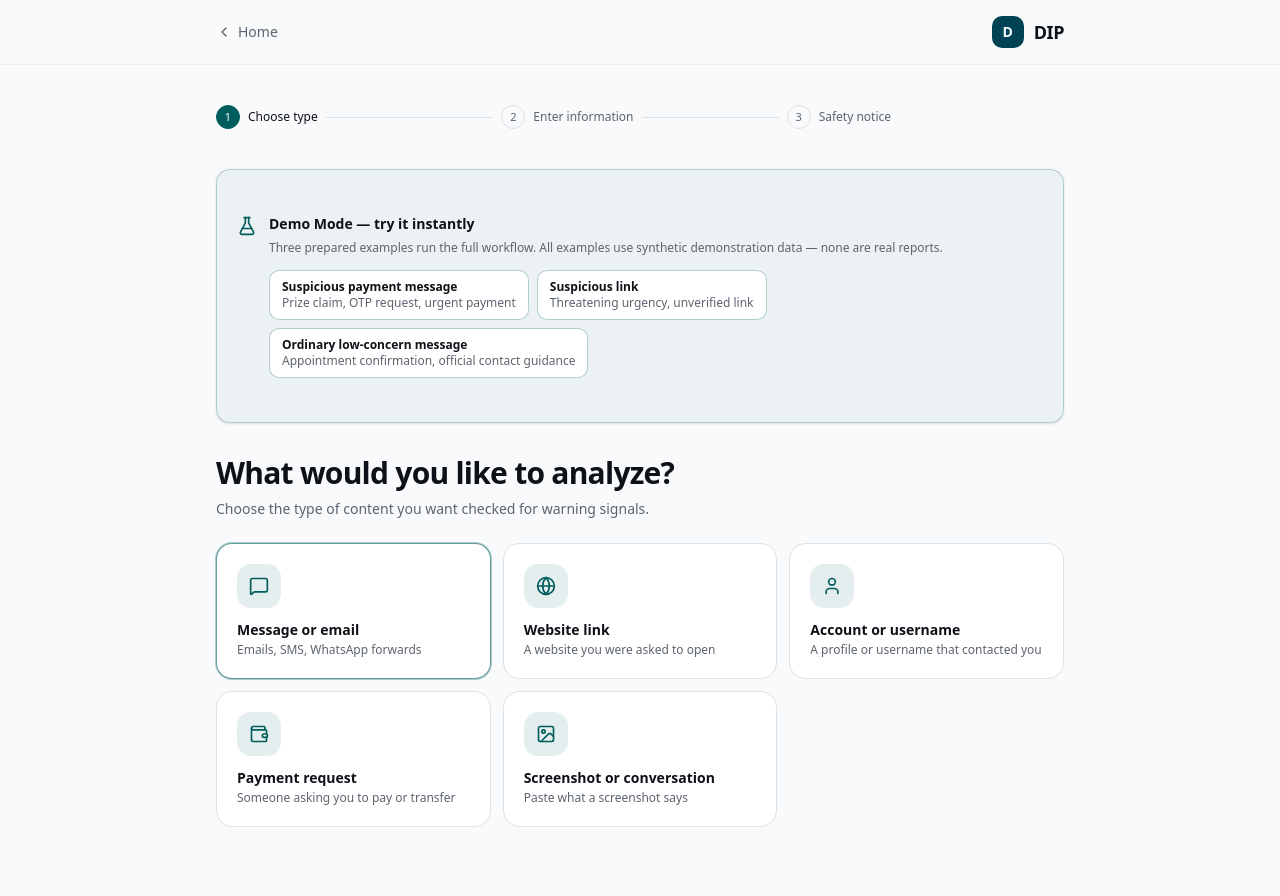
Test: QA audit: DIP browser-level checks › 9. result displays limitations and the disclaimer
The width and height of the screenshot is (1280, 896).
Click the text "Suspicious payment message": (370, 286) x1=282 y1=278 x2=458 y2=294
(page scrolled)
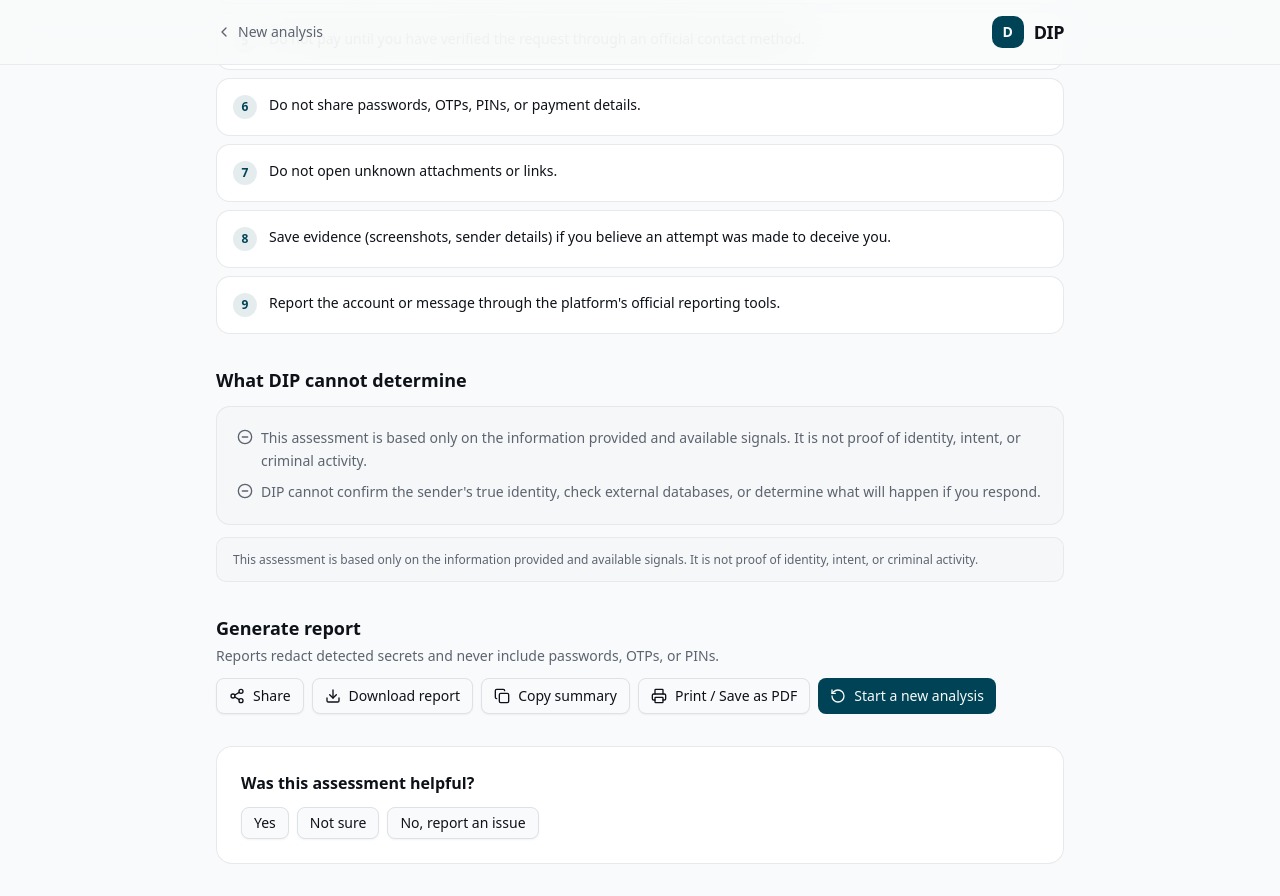
Now the heading "What DIP cannot determine" is shown, box x1=216 y1=368 x2=467 y2=392
Now the list item "not proof of identity, intent, or criminal activity" is shown, box x1=261 y1=428 x2=1021 y2=470
